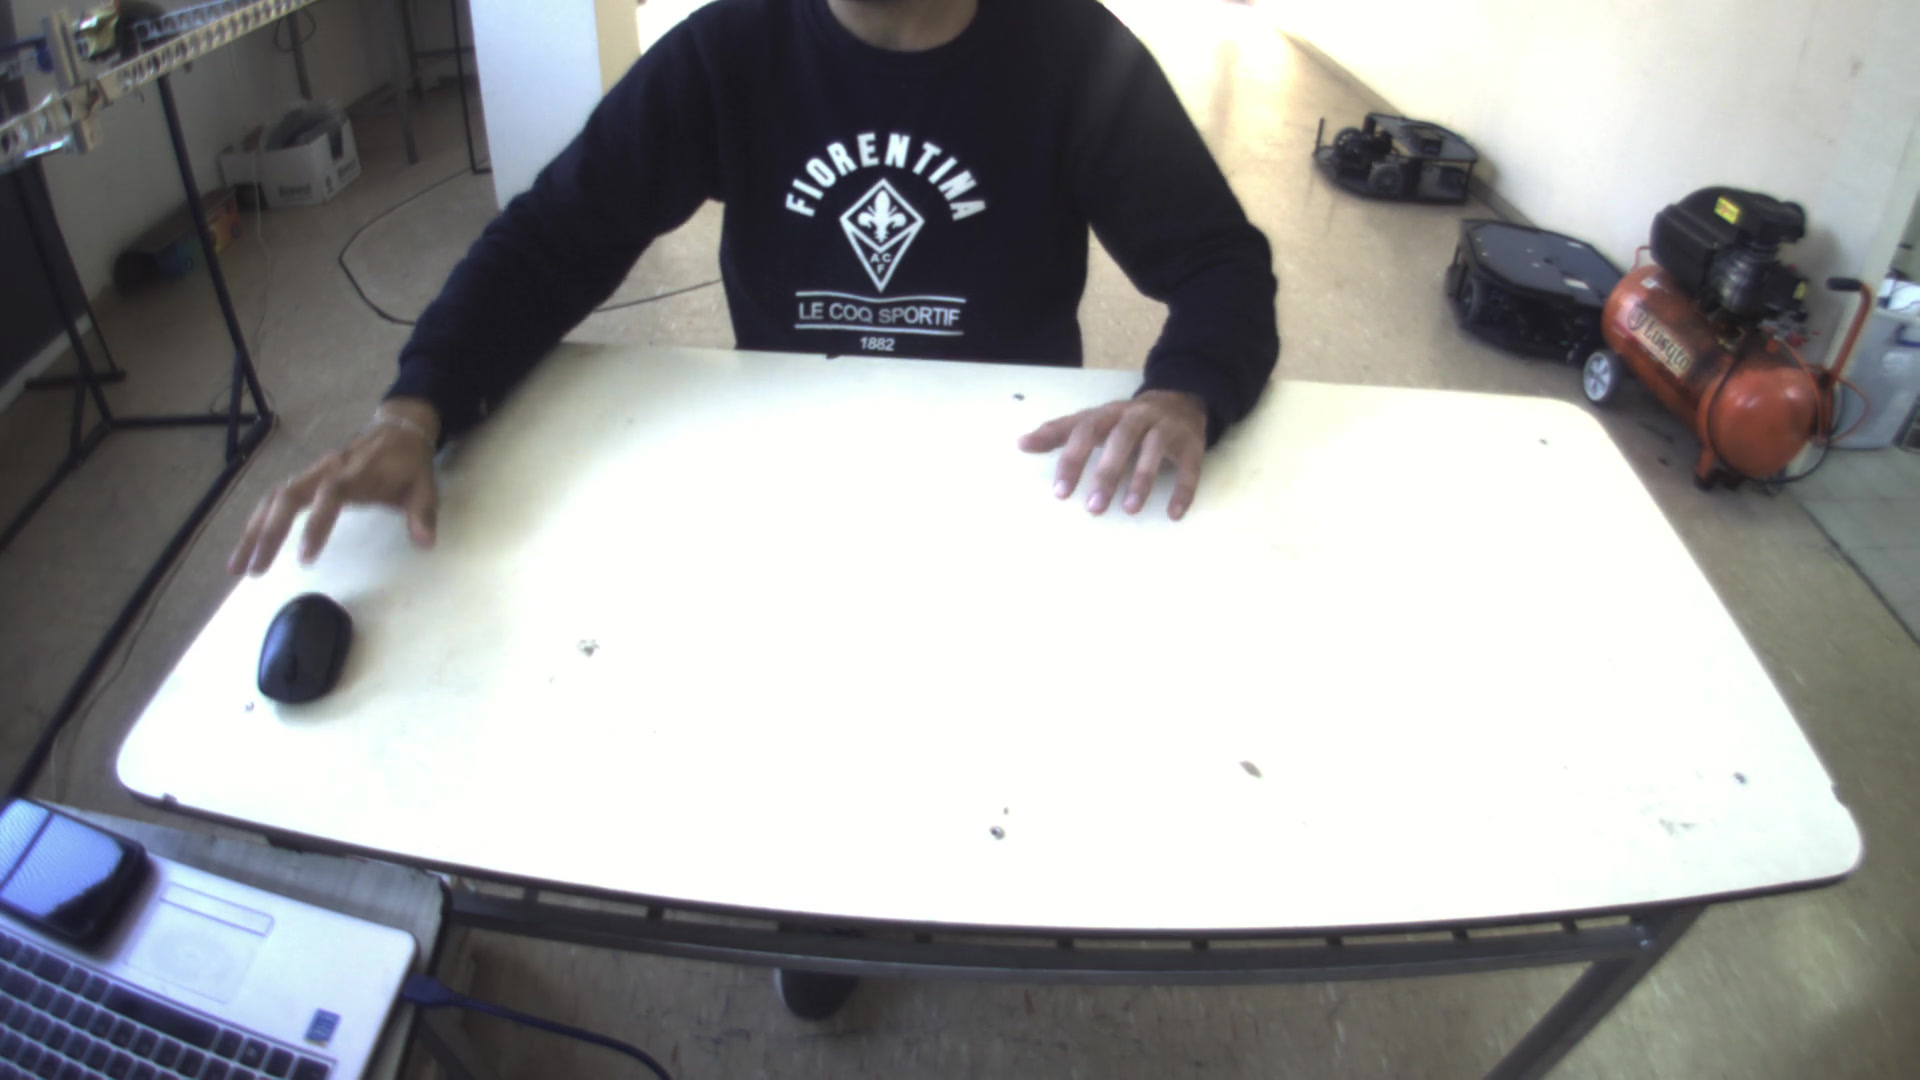hand: (208, 405, 450, 583), (1007, 361, 1229, 524)
